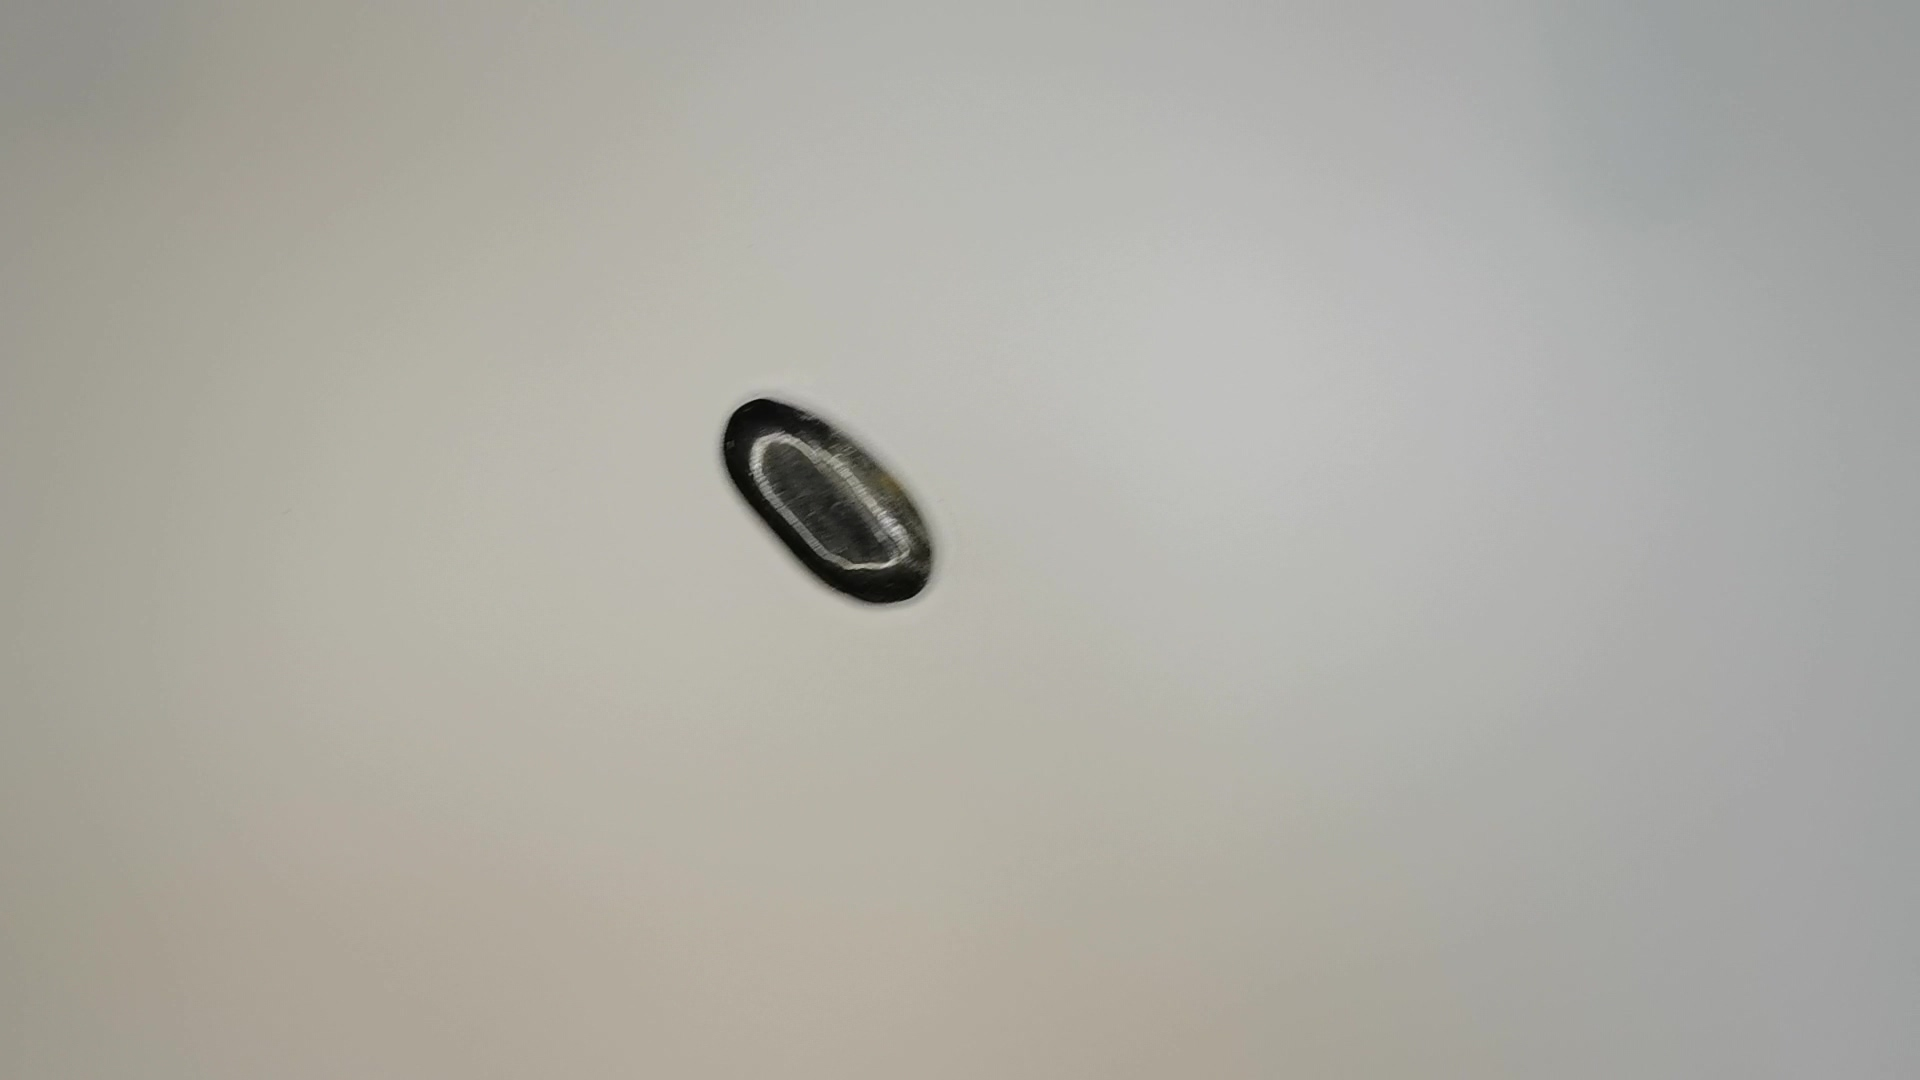ceramic: (717, 392, 944, 608)
